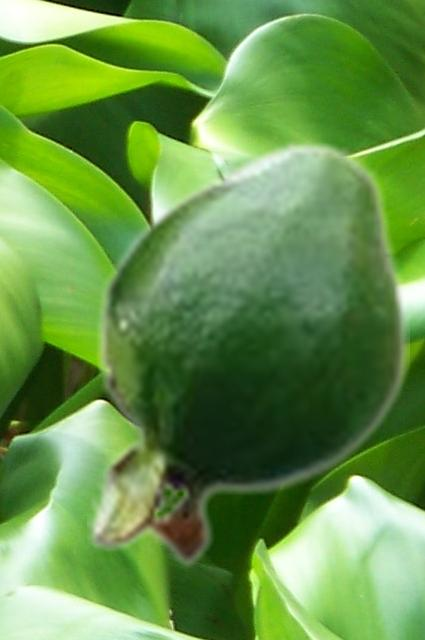guava: (87, 138, 408, 569)
